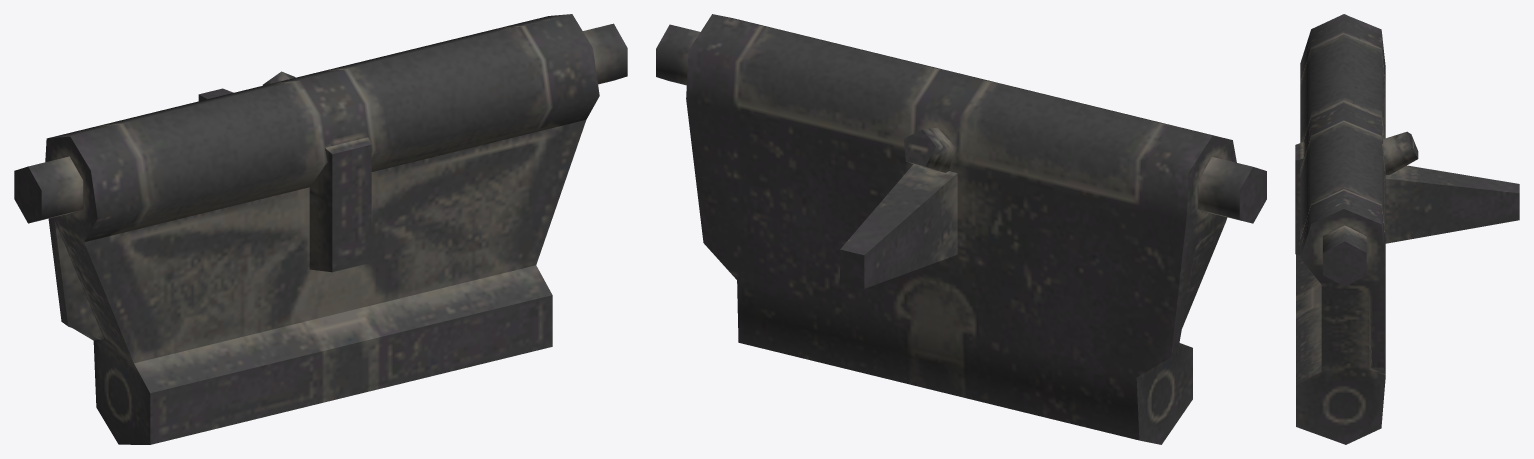
The picture shows the model from 3 angles, left to right: view 1: azimuth 30°, elevation 25°; view 2: azimuth 150°, elevation 25°; view 3: azimuth 270°, elevation 25°; orthographic projection. The views are drawn at different scales.
Parts seen in each view (by area): view 1: set_0_group_0; view 2: set_0_group_0; view 3: set_0_group_0.
Part boxes in pixels (bbox=[...]): set_0_group_0: bbox=[14, 14, 627, 444]; set_0_group_0: bbox=[656, 14, 1266, 444]; set_0_group_0: bbox=[1295, 14, 1519, 444].
Size of the model in its own units: 0.3671 by 0.1924 by 0.1533.
1 material, 1 textured.
